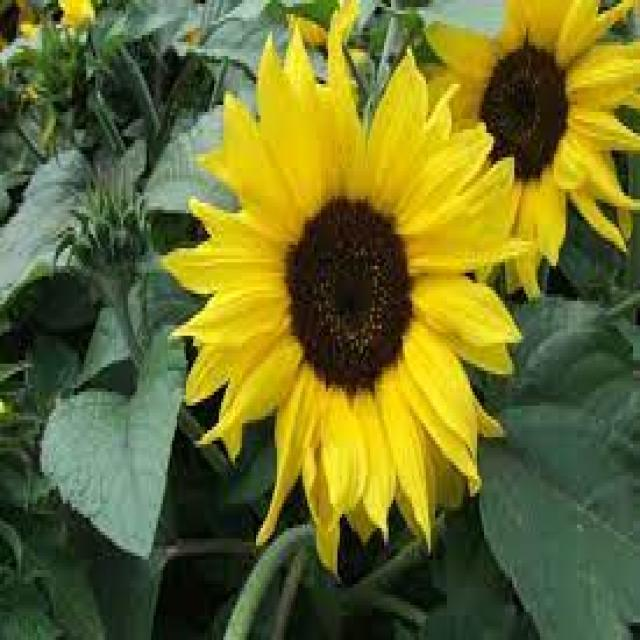sunflower: (141, 4, 548, 584), (414, 0, 639, 304), (37, 0, 100, 49)
